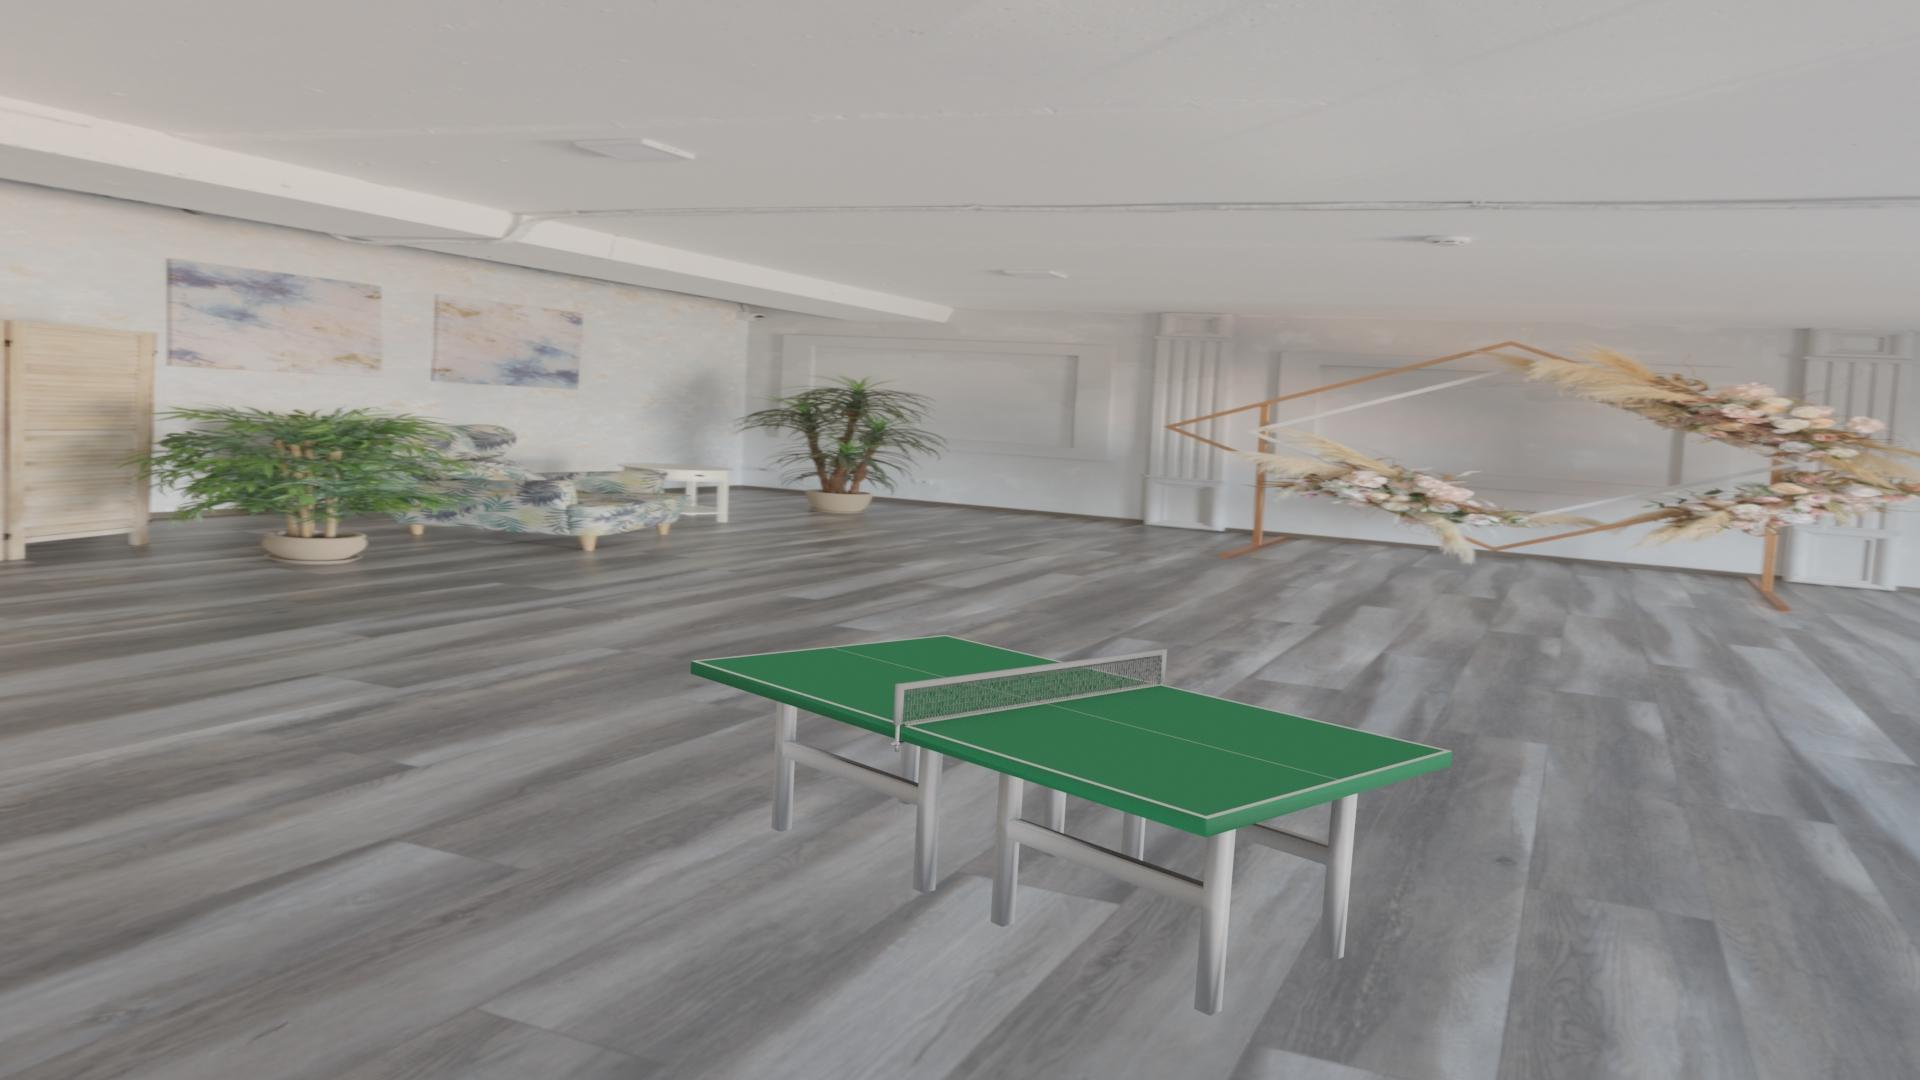table: (698, 636, 1445, 816)
